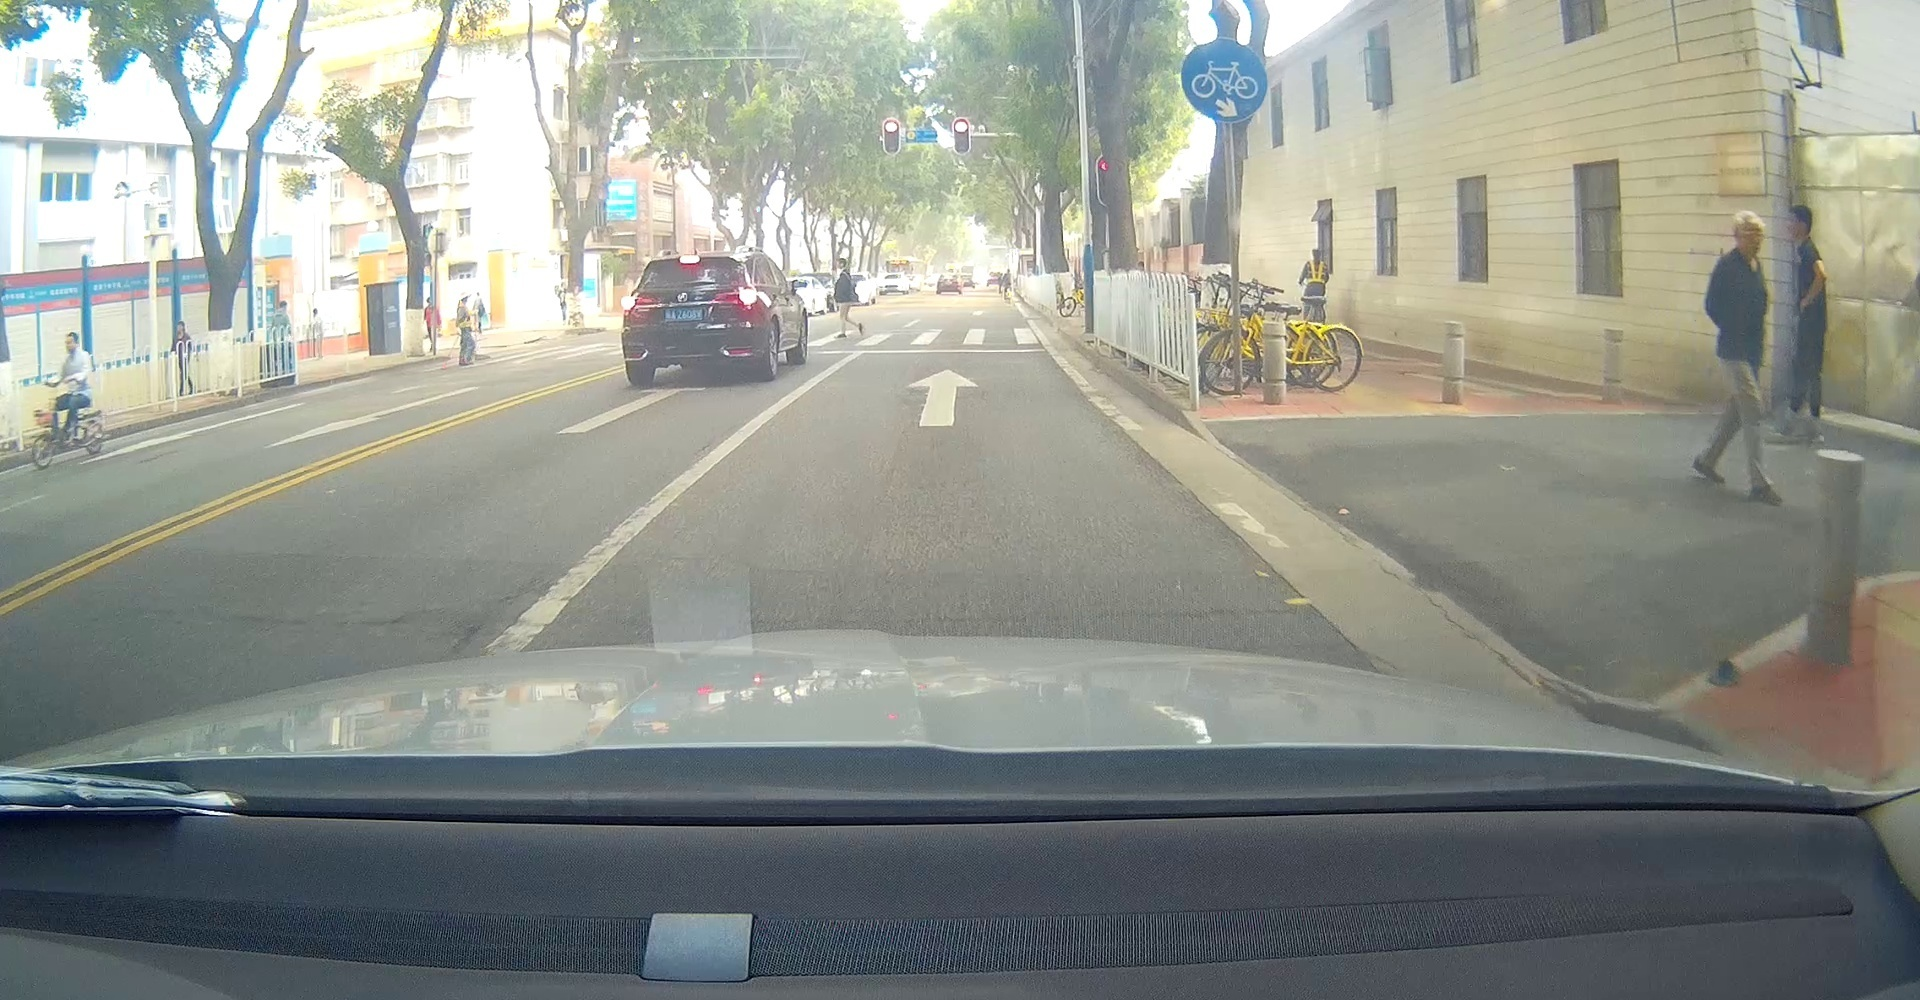L_light: (623, 296, 658, 313)
R_light: (716, 291, 756, 307)
T_light: (681, 256, 700, 263)
day-brake: (621, 251, 759, 386)
